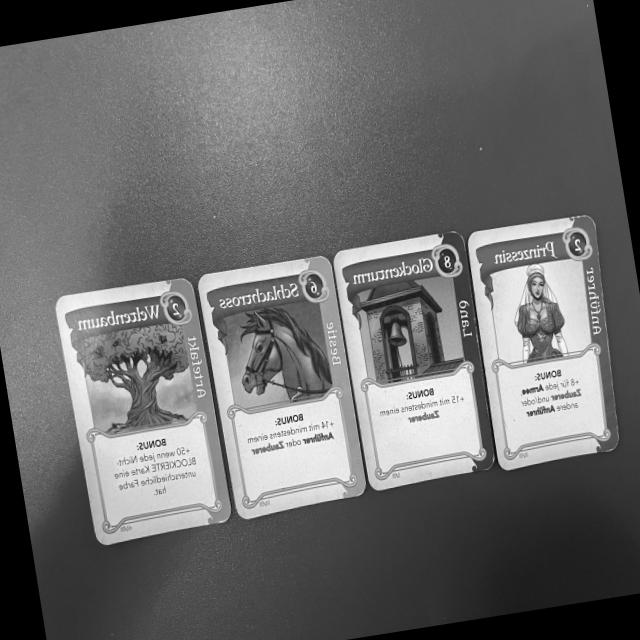Clock Tower: (332, 233, 497, 498)
Princess: (471, 215, 624, 474)
War Horse: (200, 251, 370, 528)
World Tree: (54, 276, 236, 549)
